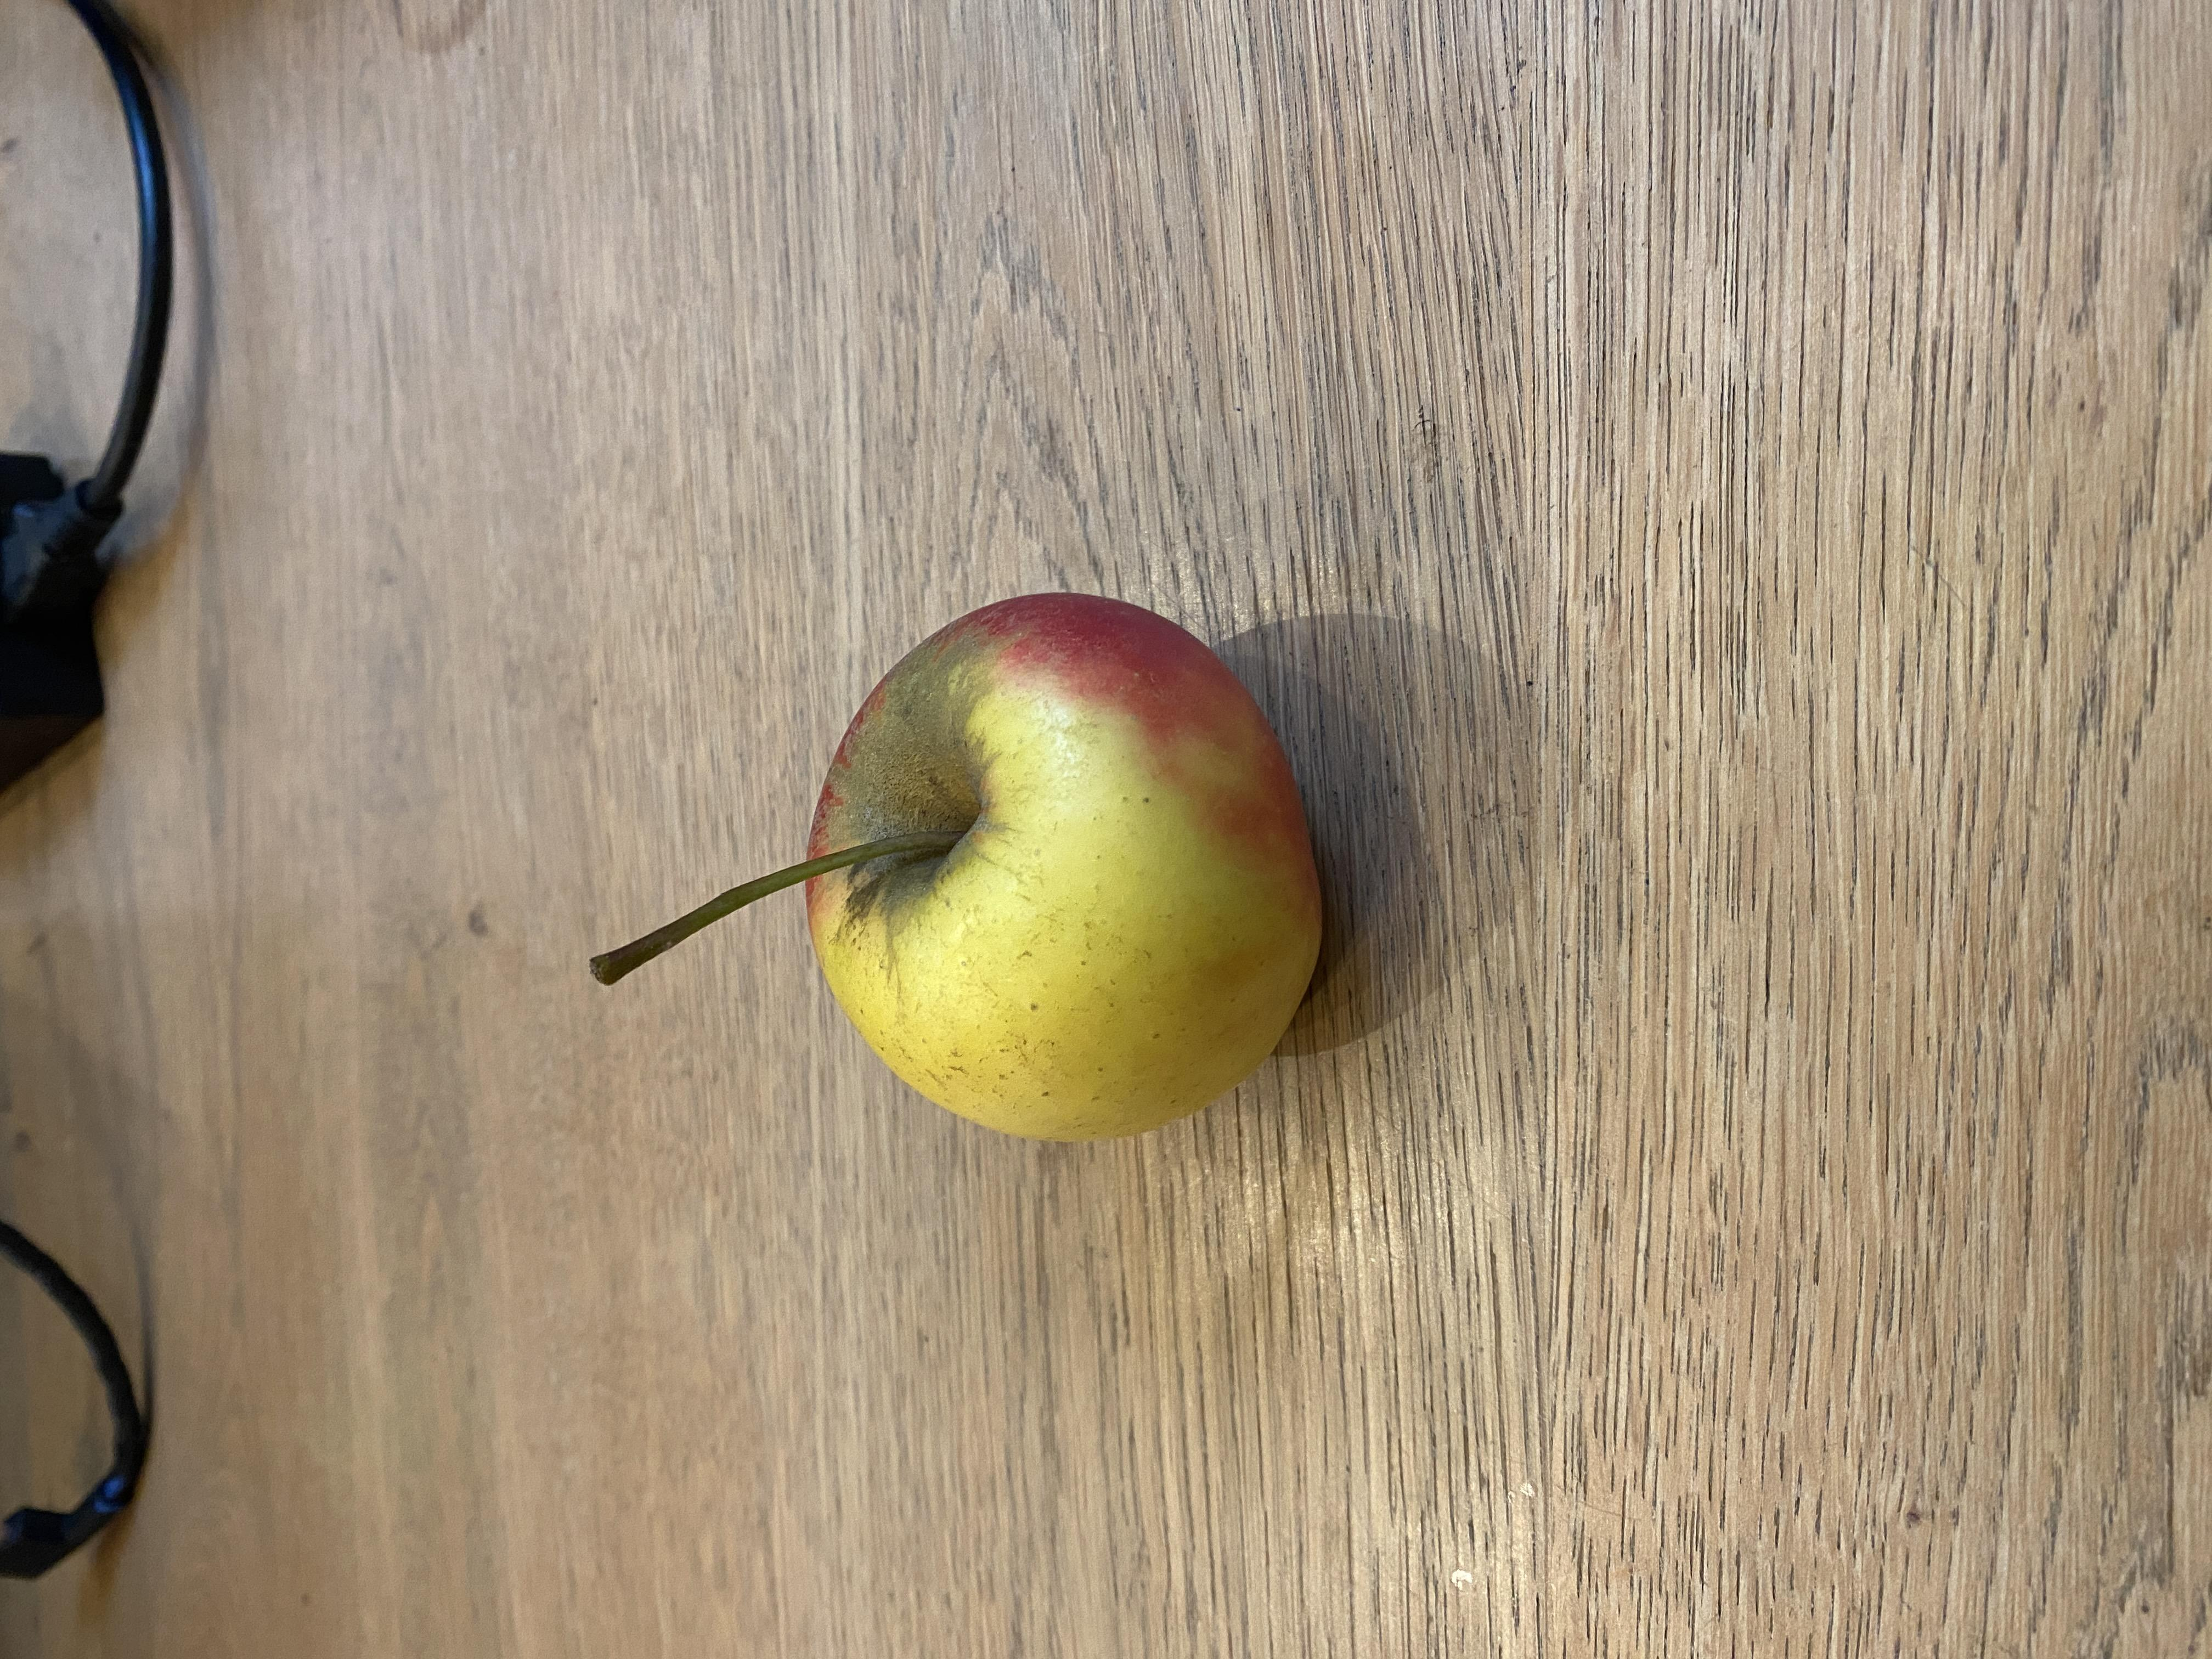Apple: (683, 425, 1425, 1011)
